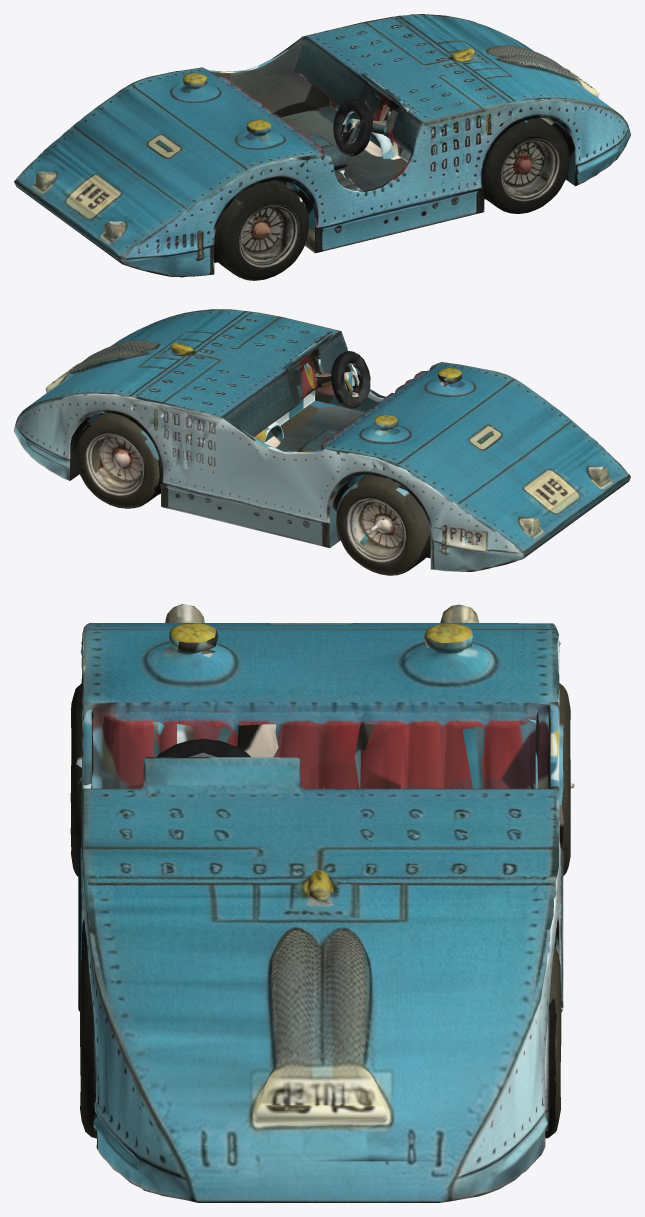
The model's file is player-car.glb.
3 renders of one model, top to bottom at view 1: azimuth 30°, elevation 25°; view 2: azimuth 150°, elevation 25°; view 3: azimuth 270°, elevation 25°, orthographic. The views are drawn at different scales.
Parts seen in each view (by area): view 1: Toy Car; view 2: Toy Car; view 3: Toy Car.
Part boxes in pixels (x1,y1,x2,y2): Toy Car: (14, 14, 630, 280); Toy Car: (14, 309, 630, 575); Toy Car: (70, 604, 574, 1202).
Size of the model in its own units: 1.19 by 0.28 by 0.4857.
1 material, 1 textured.
